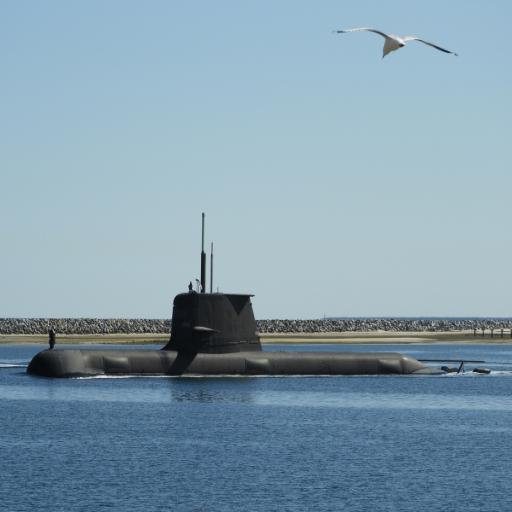submarine: (25, 210, 493, 377)
